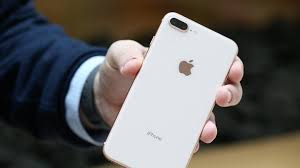iphone: (103, 10, 239, 168)
